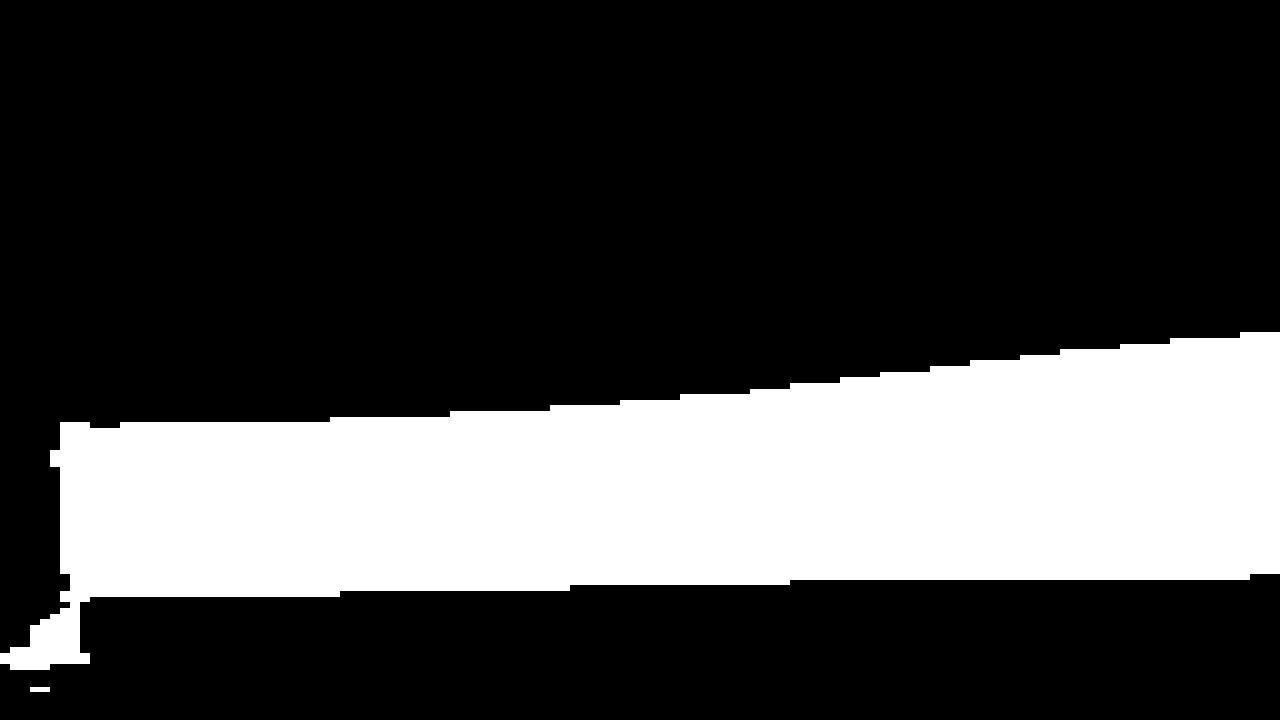Turbine: (51, 298, 1258, 612)
